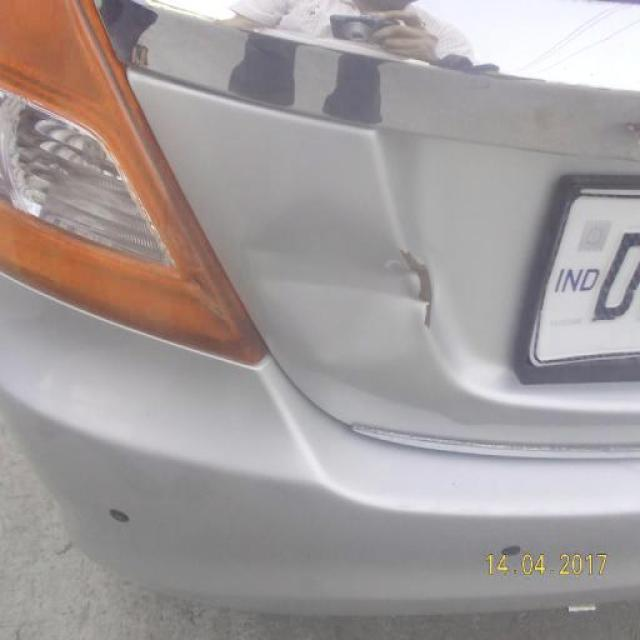car damage: (246, 214, 427, 366)
